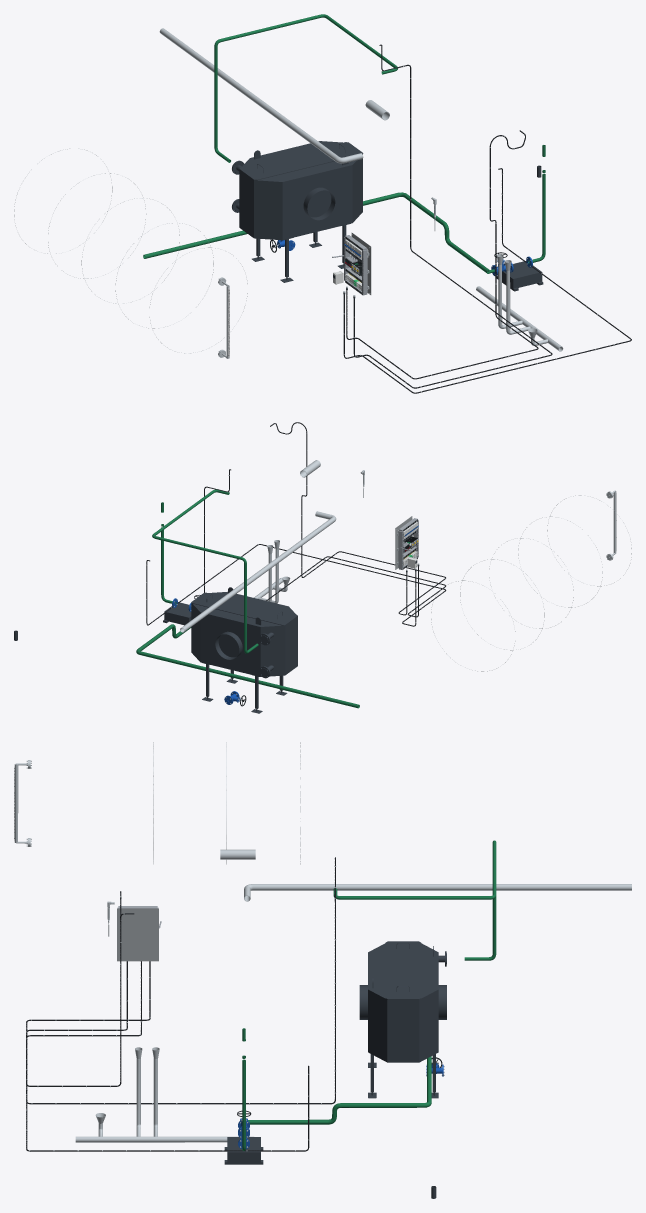
The picture shows the model from 3 angles, top to bottom: view 1: azimuth 30°, elevation 25°; view 2: azimuth 150°, elevation 25°; view 3: azimuth 270°, elevation 25°; orthographic projection. The views are drawn at different scales.
Parts seen in each view (by area): view 1: EQS2-2000 CAD 0, EQS2-2000 CAD 3, EQS2-2000 CAD 1, safety_vent_2 / steel, cabinet_interior / cabinet_interior_0.npz, local_open_drains / steel, from_economizer / green, suction_common / green, mod_eco_drive_cable / black, wiring_pressure_switch_3 / black, wiring_pump_2 / black, pump_branch_1 / dark (+1 smaller); view 2: EQS2-2000 CAD 0, EQS2-2000 CAD 3, EQS2-2000 CAD 2, suction_common / green, safety_vent_2 / steel, cabinet_interior / cabinet_interior_0.npz, from_economizer / green, wiring_pump_2 / black, wiring_pressure_switch_3 / black, local_open_drains / steel, deaerator_details / steel, mod_eco_drive_cable / black (+1 smaller); view 3: EQS2-2000 CAD 3, safety_vent_2 / steel, cabinet_interior / cabinet_interior_0.npz, local_open_drains / steel, from_economizer / green, suction_common / green, mod_eco_drive_cable / black, wiring_pump_2 / black, EQS2-2000 CAD 0, wiring_pressure_switch_3 / black, pump_branch_1 / dark, deaerator_details / steel.
Part boxes in pixels (x1=…): EQS2-2000 CAD 0: x1=252, y1=165, x2=352, y2=282; EQS2-2000 CAD 3: x1=239, y1=141, x2=363, y2=237; EQS2-2000 CAD 1: x1=254, y1=180, x2=282, y2=240; safety_vent_2 / steel: x1=159, y1=28, x2=363, y2=163; cabinet_interior / cabinet_interior_0.npz: x1=332, y1=232, x2=371, y2=295; local_open_drains / steel: x1=476, y1=254, x2=563, y2=351; from_economizer / green: x1=214, y1=14, x2=397, y2=162; suction_common / green: x1=143, y1=192, x2=489, y2=273; mod_eco_drive_cable / black: x1=353, y1=44, x2=552, y2=388; wiring_pressure_switch_3 / black: x1=346, y1=130, x2=538, y2=379; wiring_pump_2 / black: x1=343, y1=168, x2=631, y2=393; pump_branch_1 / dark: x1=496, y1=261, x2=543, y2=291; EQS2-2000 CAD 0: x1=200, y1=612, x2=287, y2=713; EQS2-2000 CAD 3: x1=191, y1=587, x2=297, y2=674; EQS2-2000 CAD 2: x1=259, y1=625, x2=285, y2=678; suction_common / green: x1=136, y1=624, x2=359, y2=708; safety_vent_2 / steel: x1=180, y1=511, x2=336, y2=632; cabinet_interior / cabinet_interior_0.npz: x1=395, y1=516, x2=418, y2=569; from_economizer / green: x1=152, y1=489, x2=258, y2=653; wiring_pump_2 / black: x1=146, y1=544, x2=446, y2=626; wiring_pressure_switch_3 / black: x1=270, y1=422, x2=445, y2=615; local_open_drains / steel: x1=253, y1=540, x2=290, y2=603; deaerator_details / steel: x1=431, y1=490, x2=631, y2=671; mod_eco_drive_cable / black: x1=204, y1=469, x2=445, y2=617; EQS2-2000 CAD 3: x1=368, y1=941, x2=438, y2=1062; safety_vent_2 / steel: x1=244, y1=884, x2=631, y2=901; cabinet_interior / cabinet_interior_0.npz: x1=117, y1=906, x2=161, y2=961; local_open_drains / steel: x1=75, y1=1047, x2=253, y2=1142; from_economizer / green: x1=333, y1=840, x2=496, y2=960; suction_common / green: x1=248, y1=1056, x2=431, y2=1124; mod_eco_drive_cable / black: x1=26, y1=857, x2=335, y2=1104; wiring_pump_2 / black: x1=26, y1=961, x2=309, y2=1151; EQS2-2000 CAD 0: x1=359, y1=985, x2=446, y2=1098; wiring_pressure_switch_3 / black: x1=26, y1=891, x2=150, y2=1086; pump_branch_1 / dark: x1=224, y1=1137, x2=263, y2=1164; deaerator_details / steel: x1=14, y1=742, x2=300, y2=864.
Size of the model in its own units: 8.04 by 3.24 by 7.17.
